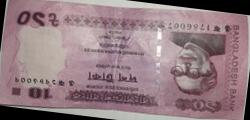10 taka: (8, 1, 244, 120)
